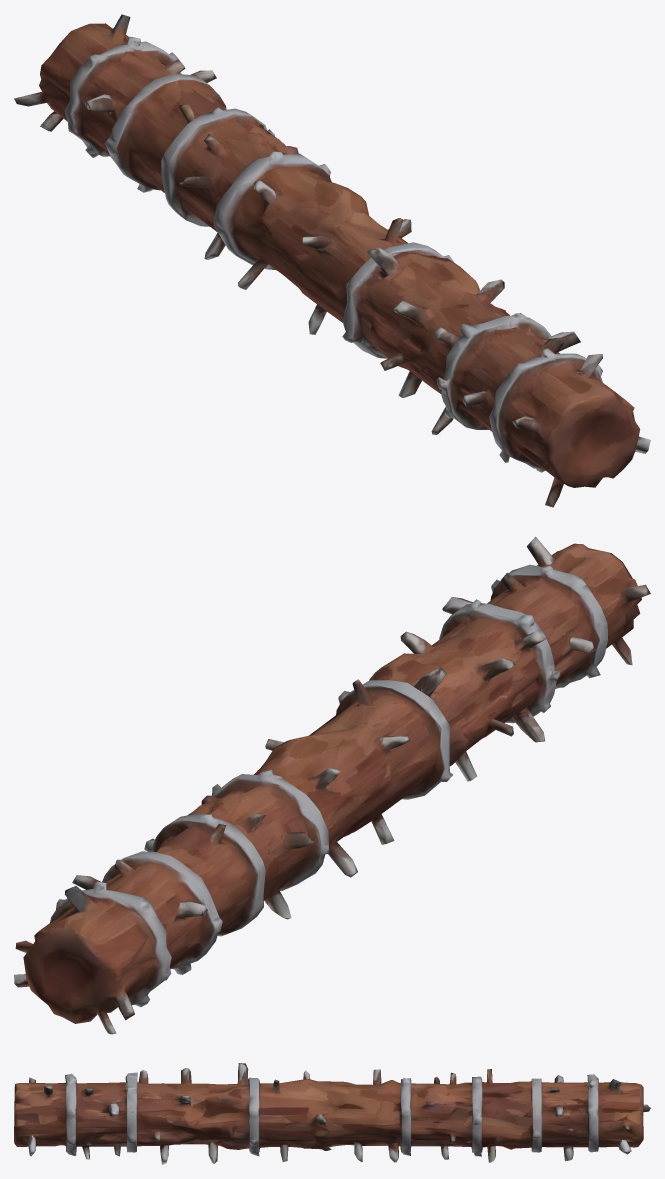
The model's file is spiked_log.glb.
3 renders of one model, top to bottom at view 1: azimuth 30°, elevation 25°; view 2: azimuth 150°, elevation 25°; view 3: azimuth 270°, elevation 25°, orthographic. The views are drawn at different scales.
Visible parts, largest first — view 1: tripo_node_f8486e69-7d1f-4d3d-a0fd-5654a891b23e; view 2: tripo_node_f8486e69-7d1f-4d3d-a0fd-5654a891b23e; view 3: tripo_node_f8486e69-7d1f-4d3d-a0fd-5654a891b23e.
Part boxes in pixels (x1=…): tripo_node_f8486e69-7d1f-4d3d-a0fd-5654a891b23e: x1=14, y1=14, x2=650, y2=507; tripo_node_f8486e69-7d1f-4d3d-a0fd-5654a891b23e: x1=14, y1=536, x2=650, y2=1034; tripo_node_f8486e69-7d1f-4d3d-a0fd-5654a891b23e: x1=14, y1=1063, x2=650, y2=1164.
Bounding box in the file's own units: 0.1567 × 0.1395 × 1.
1 material, 1 textured.
